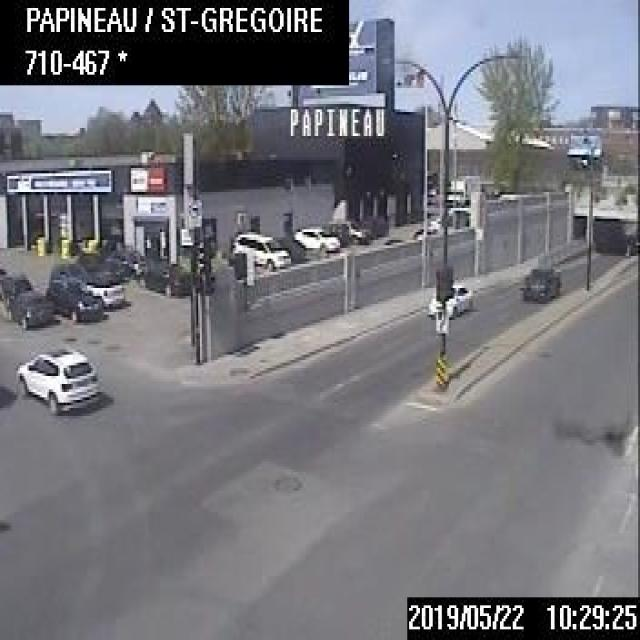vehicle: (16, 344, 100, 413), (50, 280, 104, 328), (233, 227, 289, 272), (137, 256, 197, 294), (6, 286, 52, 330), (49, 258, 89, 306), (423, 280, 471, 315), (75, 250, 124, 283), (85, 267, 124, 306), (293, 224, 340, 253), (0, 268, 31, 311), (522, 264, 556, 299), (105, 246, 143, 276), (333, 217, 369, 242), (276, 233, 304, 260), (323, 220, 348, 244)
